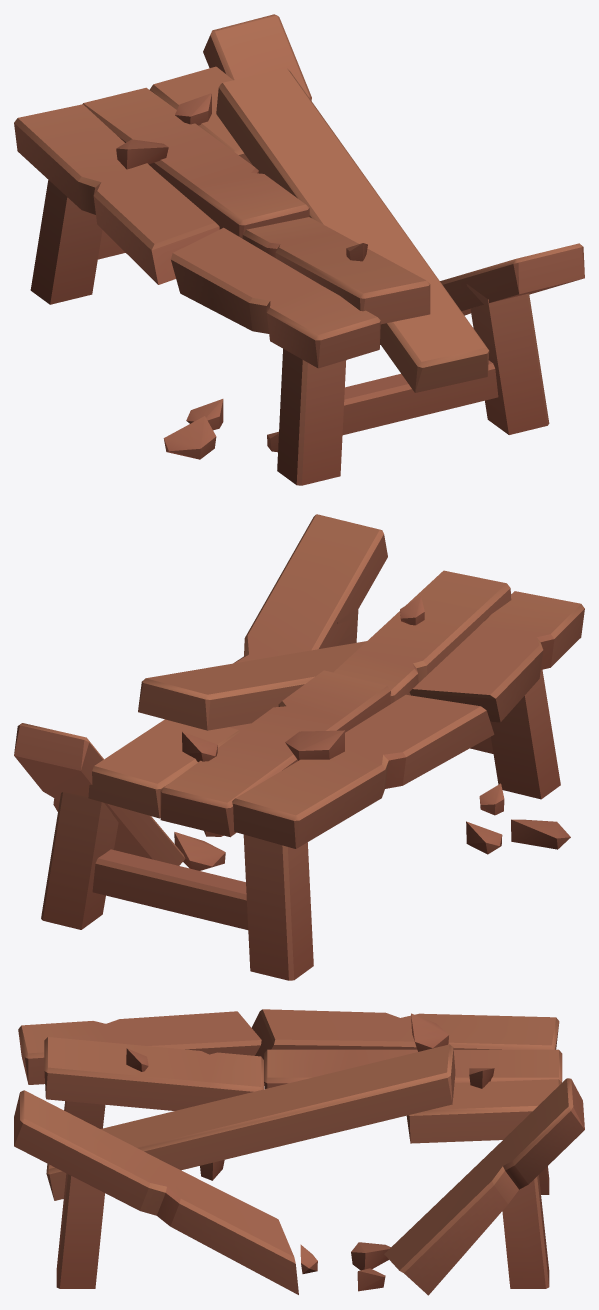
Rendered from PlankR3L.glb.
3 views of the same model, one above another, from view 1: azimuth 30°, elevation 25°; view 2: azimuth 150°, elevation 25°; view 3: azimuth 270°, elevation 25° (orthographic). The views are drawn at different scales.
Parts seen in each view (by area): view 1: table_long_broken; view 2: table_long_broken; view 3: table_long_broken.
Part boxes in pixels (x1,y1,x2,y2): table_long_broken: (14, 14, 584, 485); table_long_broken: (14, 514, 584, 980); table_long_broken: (14, 1009, 584, 1295).
Bounding box in the file's own units: 1 × 0.6 × 1.6.
1 material, 1 textured.
